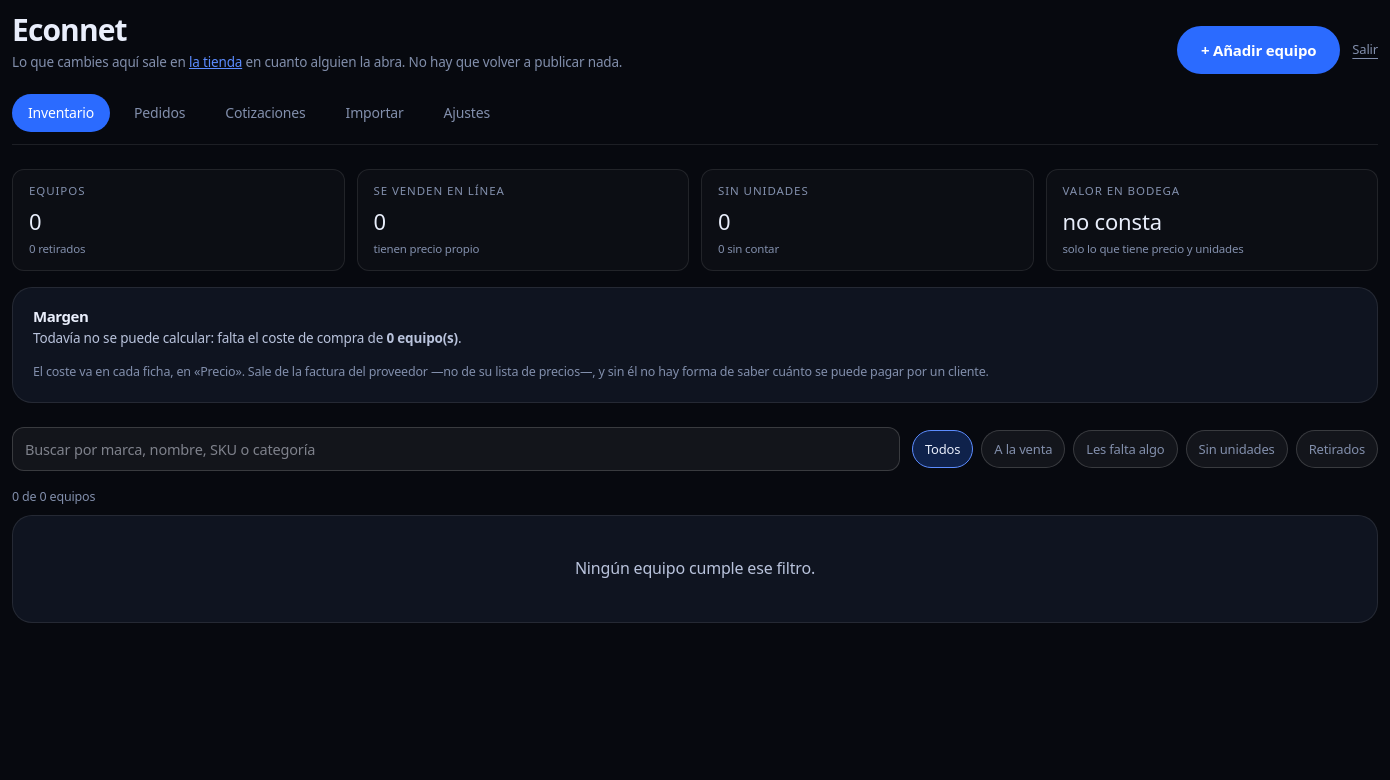
cotizaciones › suma lo que hay en juego en las que siguen abiertas
Click the button "Cotizaciones": (265,113) [209,94,322,132]
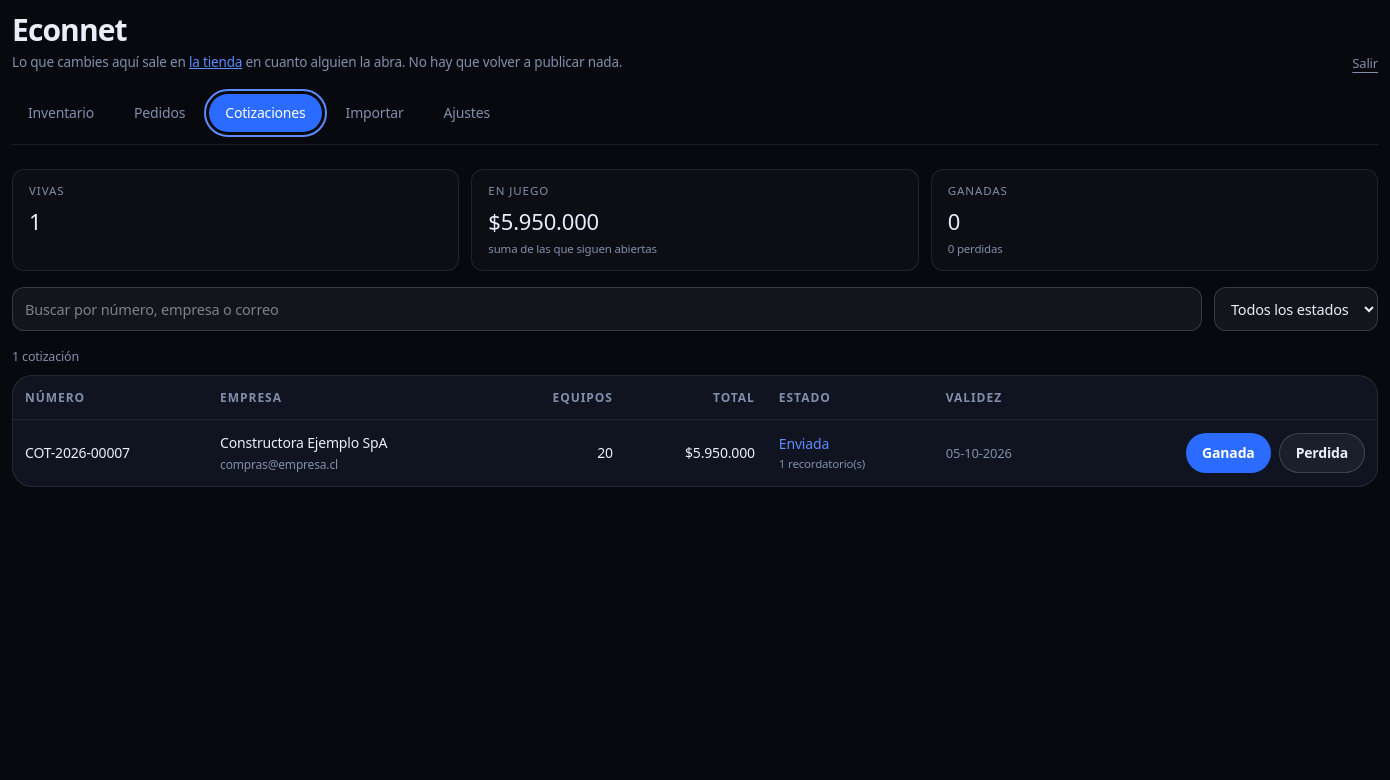
Expected: the text "$5.950.000" is shown 2 times, [488,206,599,236]; [625,420,767,486]
